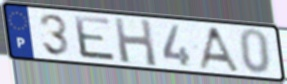0: (237, 27, 274, 77)
3: (38, 13, 72, 57)
4: (160, 23, 193, 68)
A: (196, 25, 242, 74)
E: (71, 13, 119, 63)
H: (112, 16, 160, 69)
